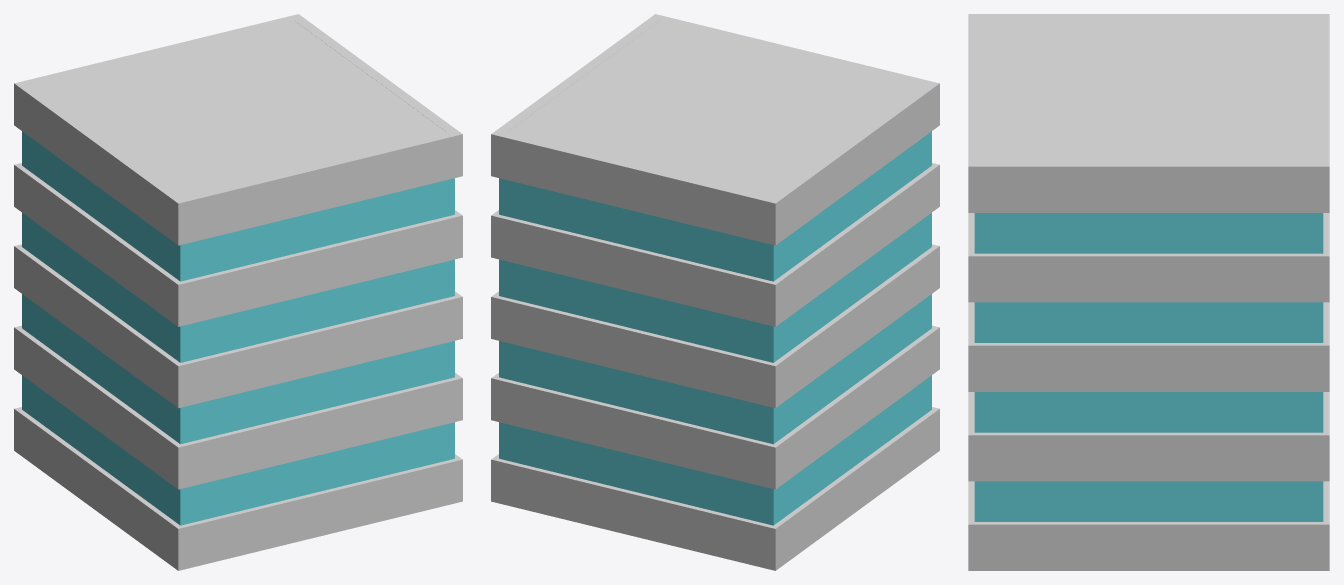
File: Office.fbx
3 renders of one model, left to right at view 1: azimuth 30°, elevation 25°; view 2: azimuth 150°, elevation 25°; view 3: azimuth 270°, elevation 25°, orthographic. The views are drawn at different scales.
Visible parts, largest first — view 1: Model; view 2: Model; view 3: Model.
Part boxes in pixels (x1,y1,x2,y2): Model: [14, 14, 462, 570]; Model: [491, 14, 939, 570]; Model: [968, 14, 1329, 570].
Size of the model in its own units: 210 by 259 by 210.
